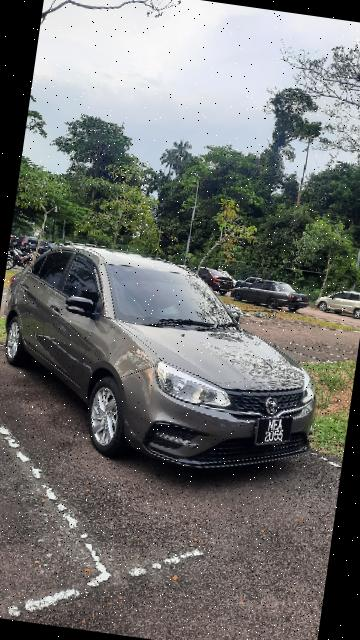License_Plate: (255, 413, 296, 450)
car: (1, 235, 334, 488)
